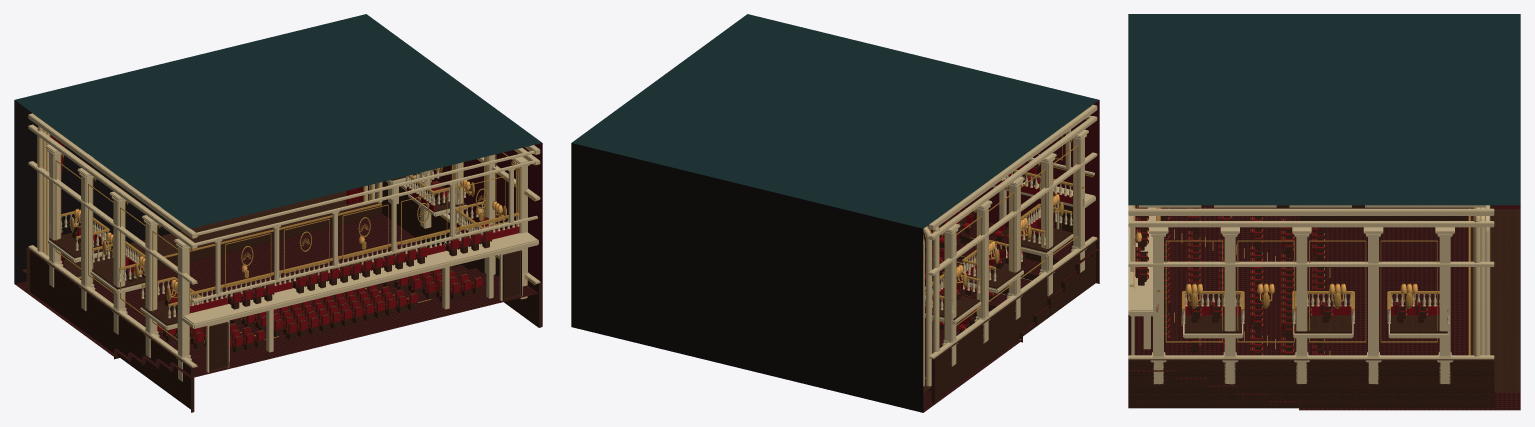
File: Cinema.fbx
3 renders of one model, left to right at view 1: azimuth 30°, elevation 25°; view 2: azimuth 150°, elevation 25°; view 3: azimuth 270°, elevation 25°, orthographic. The views are drawn at different scales.
Parts seen in each view (by area): view 1: Cinema_Ceiling_Petrol, Cinema_Ivory_Stucco, Cinema_Walnut_Panelling, Cinema_Carpet_Deco, Cinema_Gold_Ornament, Cinema_Velvet_Crimson, Cinema_Stage_WarmShadow, Cinema_Damask_Oxblood, Cinema_Bulb_emit; view 2: Cinema_Stage_WarmShadow, Cinema_Ceiling_Petrol, Cinema_Ivory_Stucco, Cinema_Walnut_Panelling, Cinema_Gold_Ornament, Cinema_Damask_Oxblood, Cinema_Carpet_Deco, Cinema_Velvet_Crimson; view 3: Cinema_Ceiling_Petrol, Cinema_Walnut_Panelling, Cinema_Ivory_Stucco, Cinema_Carpet_Deco, Cinema_Gold_Ornament, Cinema_Velvet_Crimson, Cinema_Bulb_emit.
Boxes of the visible parts, x1,y1,x2,y2 form: Cinema_Ceiling_Petrol: [15, 14, 541, 228]; Cinema_Ivory_Stucco: [28, 113, 540, 381]; Cinema_Walnut_Panelling: [22, 173, 541, 412]; Cinema_Carpet_Deco: [15, 213, 538, 378]; Cinema_Gold_Ornament: [38, 126, 535, 367]; Cinema_Velvet_Crimson: [50, 135, 519, 347]; Cinema_Stage_WarmShadow: [14, 100, 181, 283]; Cinema_Damask_Oxblood: [368, 143, 542, 326]; Cinema_Bulb_emit: [74, 177, 502, 291]; Cinema_Stage_WarmShadow: [571, 143, 923, 412]; Cinema_Ceiling_Petrol: [572, 14, 1098, 228]; Cinema_Ivory_Stucco: [923, 104, 1097, 386]; Cinema_Walnut_Panelling: [923, 164, 1098, 403]; Cinema_Gold_Ornament: [923, 118, 1093, 385]; Cinema_Damask_Oxblood: [960, 100, 1099, 283]; Cinema_Carpet_Deco: [923, 214, 1098, 412]; Cinema_Velvet_Crimson: [923, 164, 1083, 330]; Cinema_Ceiling_Petrol: [1128, 14, 1520, 205]; Cinema_Walnut_Panelling: [1128, 205, 1520, 408]; Cinema_Ivory_Stucco: [1128, 205, 1494, 384]; Cinema_Carpet_Deco: [1128, 205, 1520, 410]; Cinema_Gold_Ornament: [1133, 205, 1485, 356]; Cinema_Velvet_Crimson: [1135, 205, 1439, 355]; Cinema_Bulb_emit: [1135, 232, 1417, 292].
Size of the model in its own units: 24 by 12.26 by 20.8.
9 materials, 9 textured.
